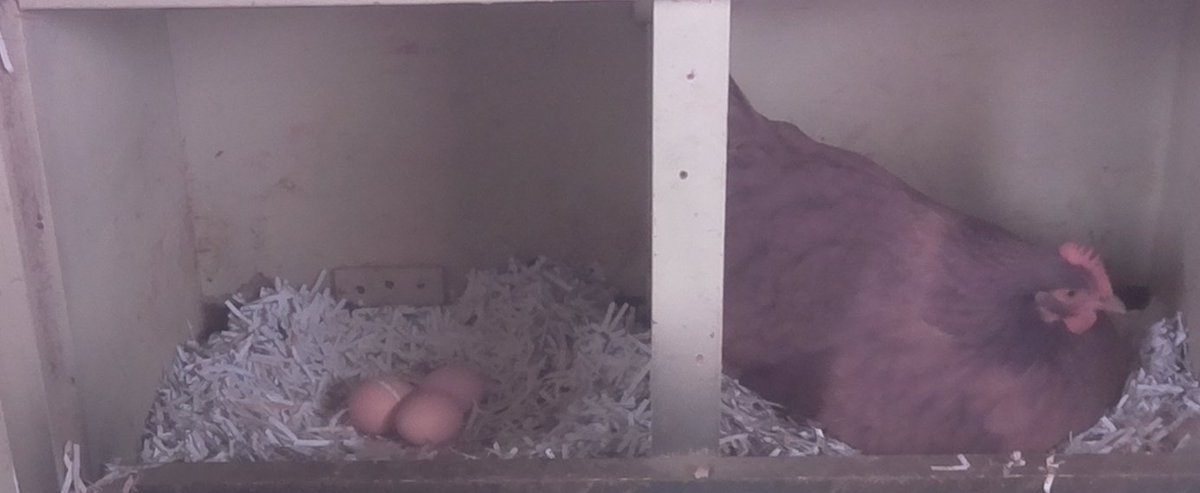egg: (731, 68, 1147, 450), (383, 387, 469, 450), (410, 360, 492, 419), (341, 374, 413, 435)
